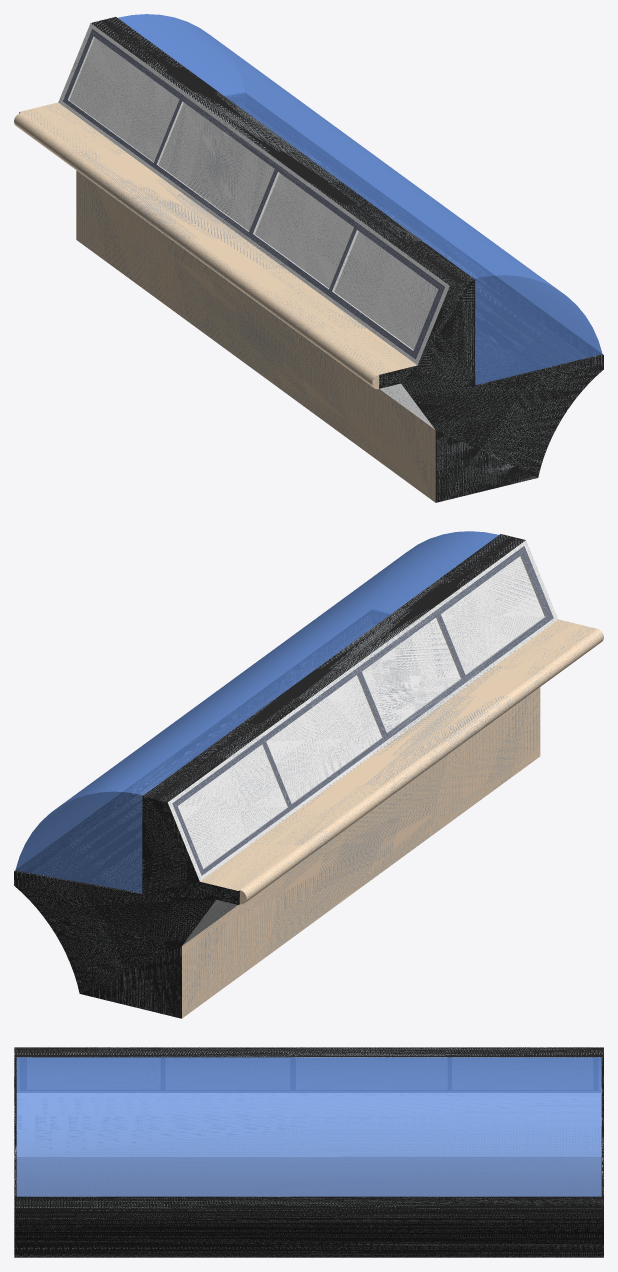
The model's file is modelMaso.dae.
3 views of the same model, one above another, from view 1: azimuth 30°, elevation 25°; view 2: azimuth 150°, elevation 25°; view 3: azimuth 270°, elevation 25° (orthographic). The views are drawn at different scales.
Parts seen in each view (by area): view 1: SketchUp (×13); view 2: SketchUp (×12); view 3: SketchUp (×10).
Part boxes in pixels (x1,y1,x2,y2): SketchUp (×13): (14, 14, 603, 502); SketchUp (×12): (14, 531, 603, 1018); SketchUp (×10): (14, 1047, 603, 1257).
Bounding box in the file's own units: 55.22 × 148 × 48.54.
